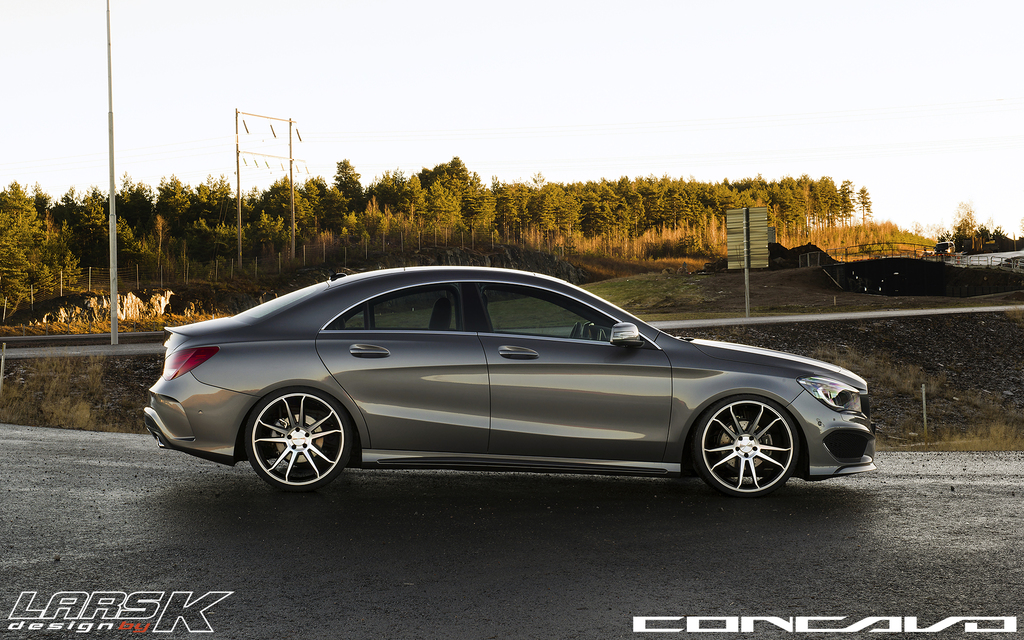Car: (143, 242, 878, 501), (933, 240, 954, 259)
